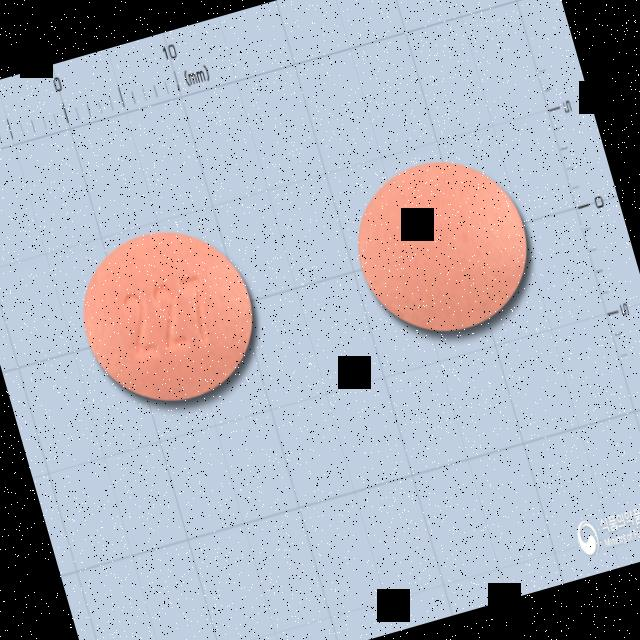Isentress HD: (62, 210, 272, 422)
